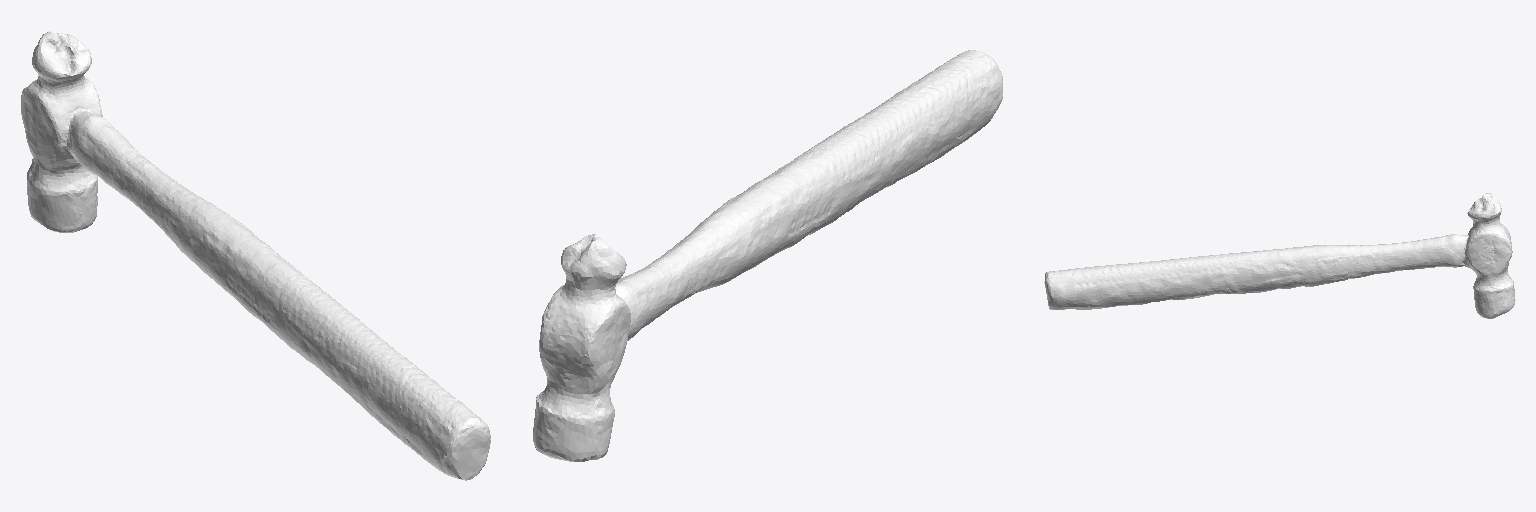
The robot description file, URDF, robot "model.urdf":
<?xml version="1.0" ?>
        <robot name="model.urdf">
        <link name="baseLink">
            <contact>
                <lateral_friction value="0.8"/>
                <rolling_friction value="0.001"/>
                <contact_cfm value="0.0"/>
                <contact_erp value="1.0"/>
            </contact>
            <inertial>
                <origin xyz="0.05 0 0" rpy="0 0 0"/>
                <mass value="1.0"/>
                <inertia ixx="0.02" ixy="0" ixz="0" iyy="0.01" iyz="0" izz="0.01"/>
            </inertial>
            <visual>
            <geometry>
                <mesh filename="hammer_2.obj" scale="1 1 1"/>
            </geometry>
            <material name="white"> <color rgba="1. 1. 1. 1."/> </material>
            </visual>
            <collision>
            <geometry>
                <mesh filename="hammer_2.obj" scale="1 1 1"/>
            </geometry>
            </collision>
        </link>
        </robot>

--- What the picture shows (computed from the rendered views, not written in the file) ---
Views: 3 orthographic renders of the robot side by side, from view 1: azimuth 30°, elevation 25°; view 2: azimuth 150°, elevation 25°; view 3: azimuth 270°, elevation 25°.
Model model.urdf with 1 links and 0 joints (none), rooted at baseLink, posed all joints at 0.
Visible links, largest first — view 1: baseLink; view 2: baseLink; view 3: baseLink.
Link boxes in pixels (box(x1,y1,x2,y2)): baseLink: box(21, 31, 490, 480); baseLink: box(533, 50, 1002, 461); baseLink: box(1044, 193, 1515, 318).
Bounding box of the posed robot: 0.0379 × 0.3162 × 0.086 m (x, y, z).
1 mesh visuals loaded from 1 distinct referenced files (1 OBJ).